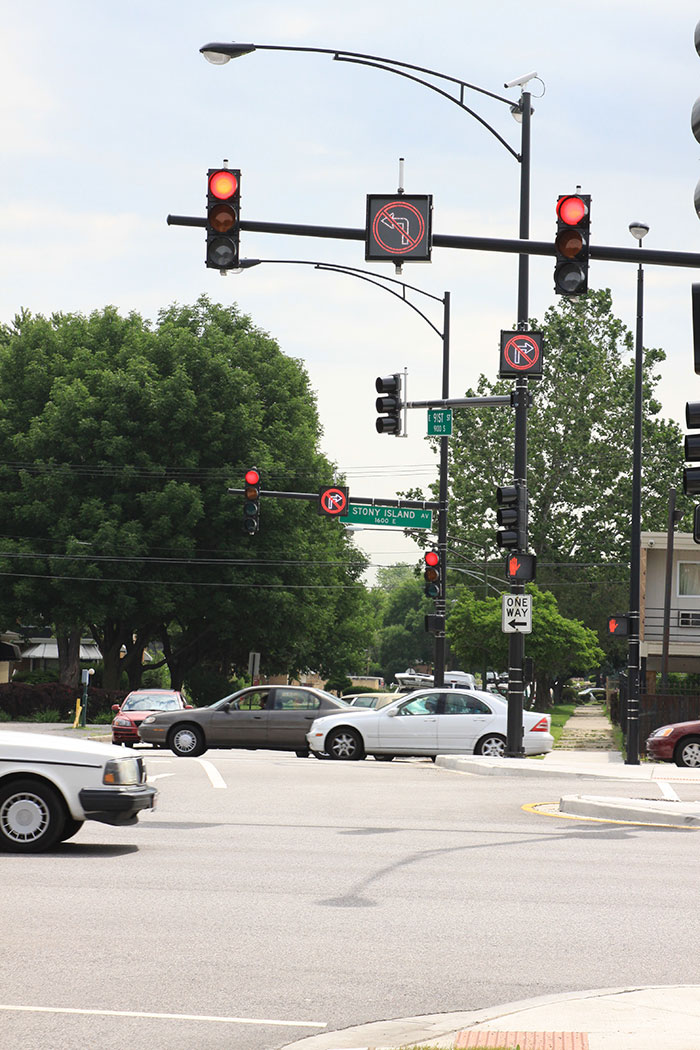redlight: (204, 164, 244, 203), (555, 191, 587, 228), (416, 547, 442, 566), (241, 466, 263, 488)
